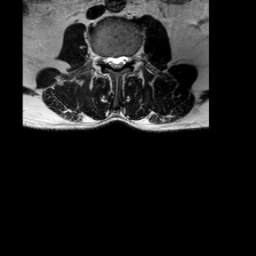CCS_stenosis: (113, 48, 120, 75)
LFS_normal: (127, 48, 135, 67)
LLS_normal: (120, 48, 127, 70)
RFS_normal: (99, 47, 106, 70)
RLS_normal: (106, 50, 113, 72)
